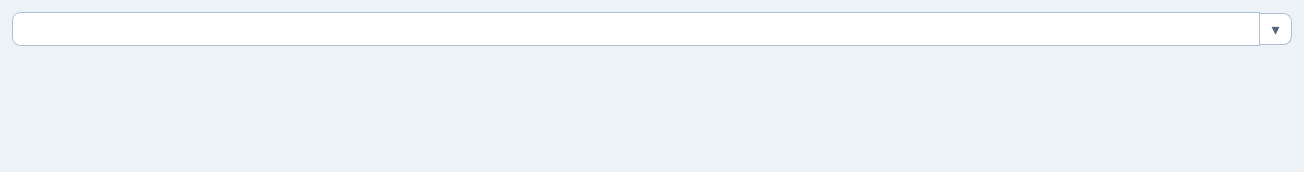
Scenario: allows direct editing of a chosen department and offers controls without a blank option
The width and height of the screenshot is (1304, 172).
Click the button named "Показать ранее введённые отделения" at (1276,29), box [1260,13,1292,45]
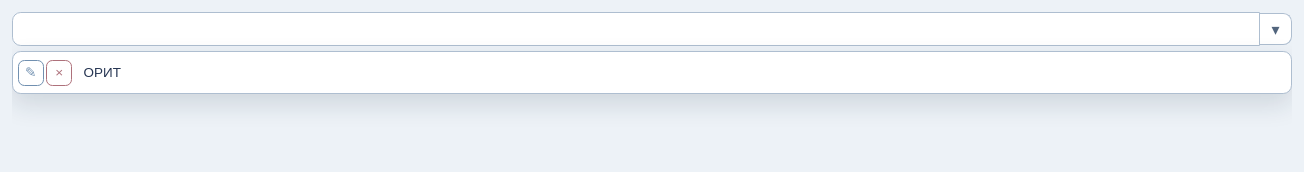
Click the button "ОРИТ" at (102,73), box [75,57,1276,89]
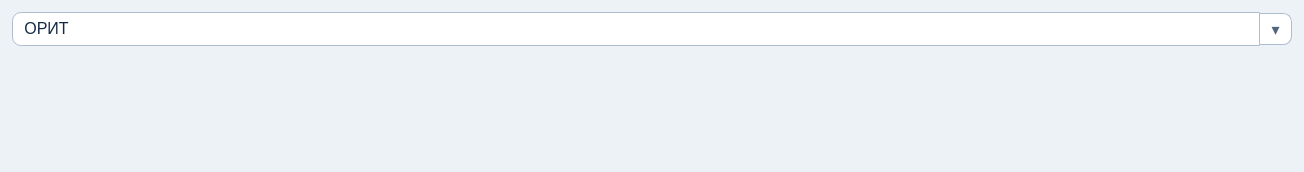
Result: the field holds "ОРИТ"
Replace the text in the field with "ОРИТ 2" at (636,29), box [12,12,1260,46]
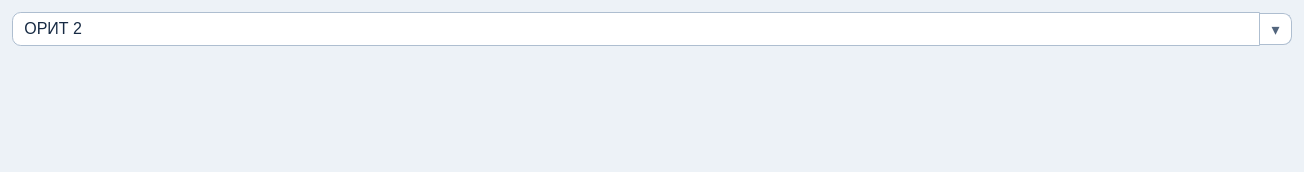
Click the button named "Показать ранее введённые отделения" at (1276,29), box [1260,13,1292,45]
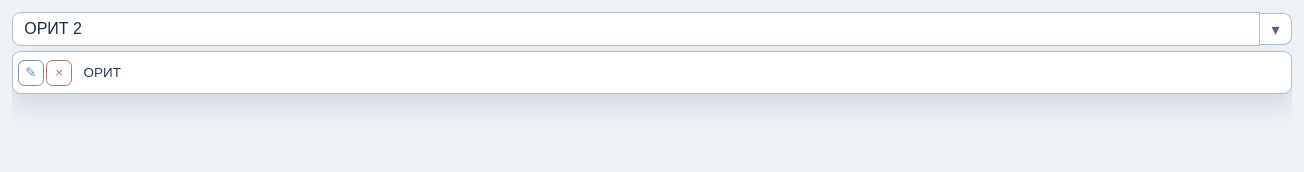
Result: the button named "Изменить значение" is shown at [18,60,44,86]
Result: the button named "Удалить значение" is shown at [46,60,72,86]
Result: the button "ОРИТ" is shown at [75,57,1276,89]
